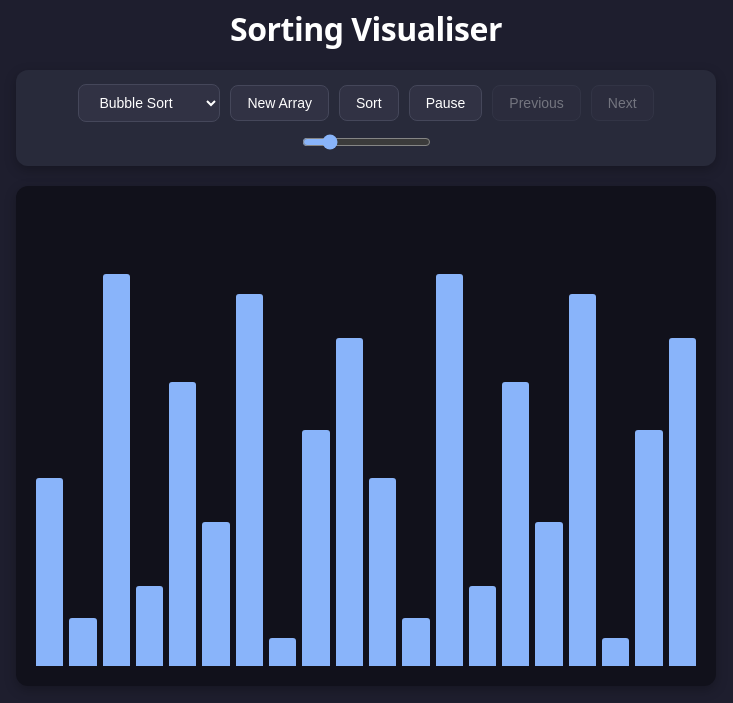
Pause / Play button › says Pause at first and switches to Play when clicked
Click the button "Pause".
click(445, 102)  # box [409,84,482,120]
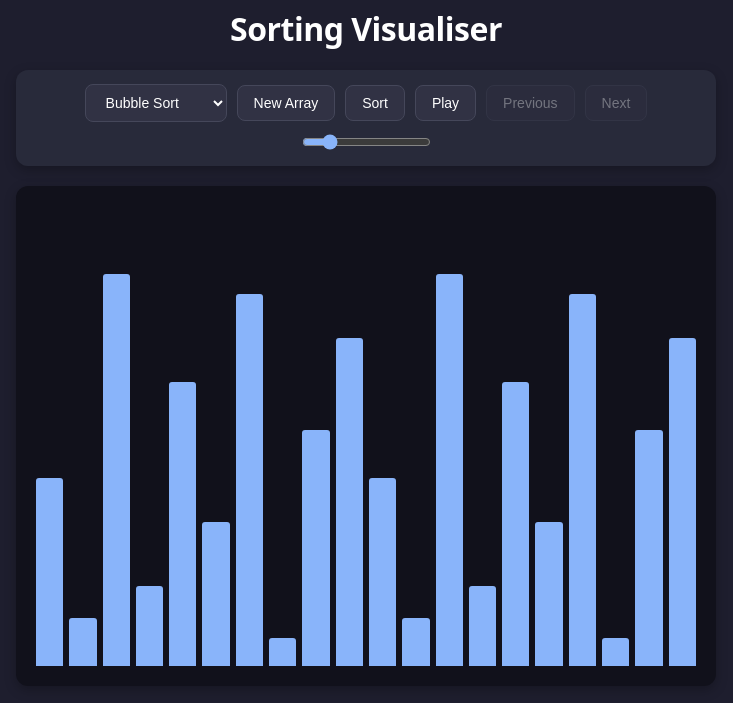
Expected: the button "Play" is shown
Click the button "Play".
click(446, 102)  # box [415,84,476,120]
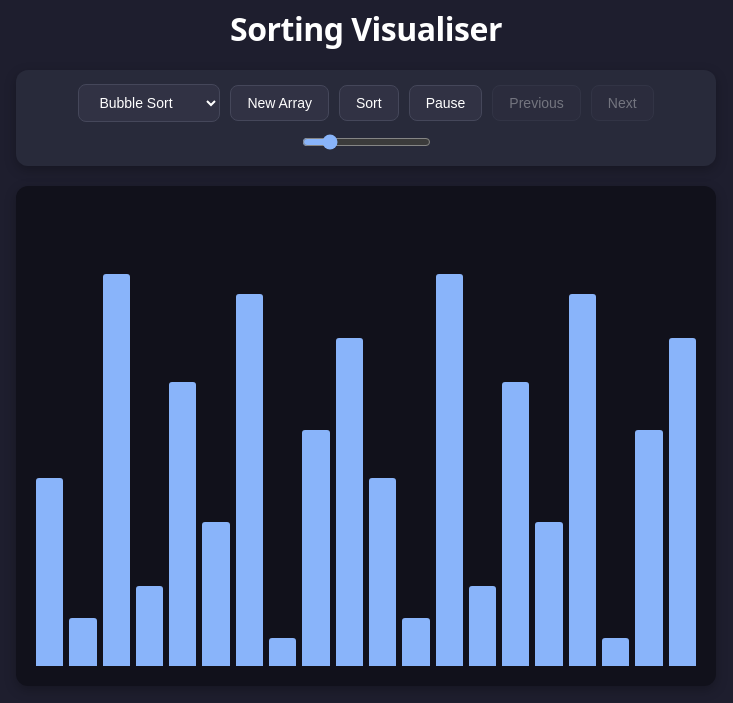
Expected: the button "Pause" is shown, [409,84,482,120]
